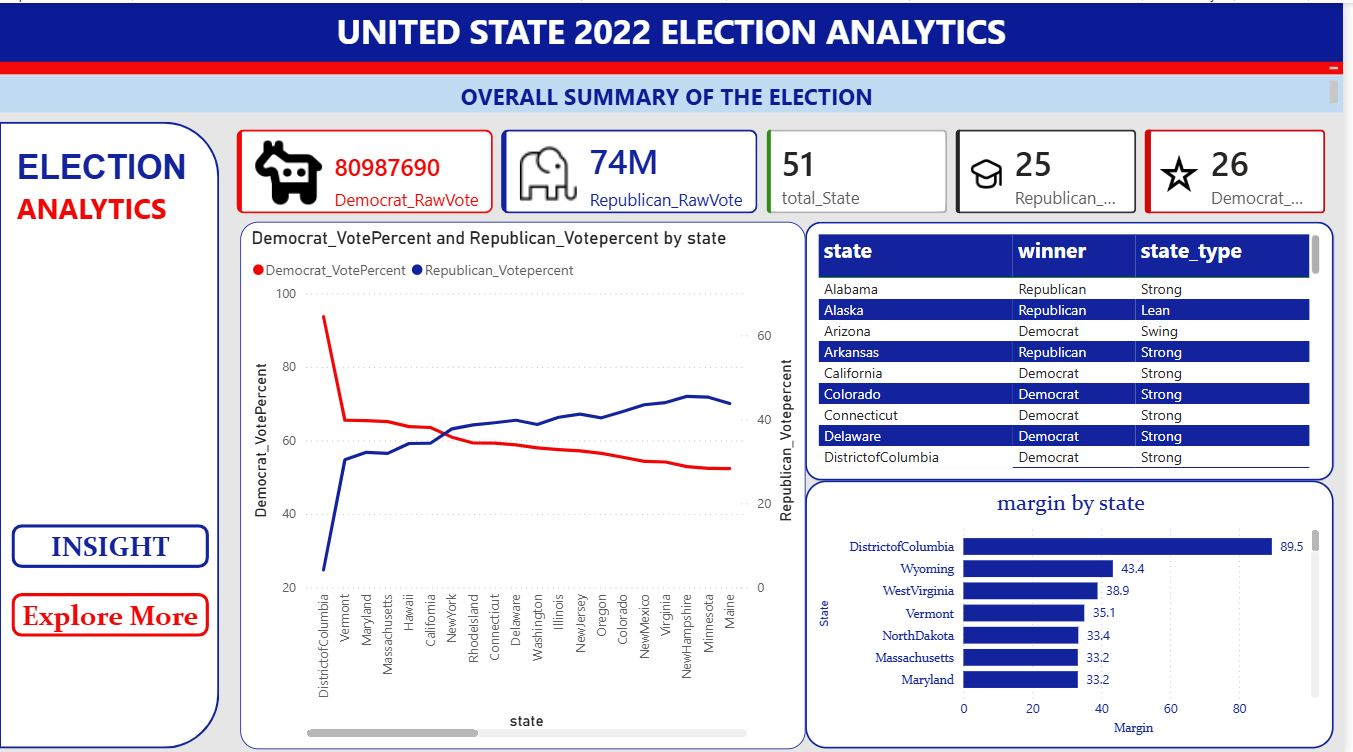

The dashboard page shown, as its layout file describes it:
{"tool":"powerbi","page":{"name":"Summery","canvas":[1280,720],"ordinal":0},"visuals":[{"type":"shape","box":[0,113,209.8,597.1],"z":0},{"type":"textbox","box":[12.1,129.1,188.3,98.2],"z":1000},{"type":"clusteredBarChart","title":"margin by state","fields":{"Category":["Query1.state"],"Y":["Sum(Query1.margin)"]},"box":[767.9,454.6,503,255.5],"z":2000},{"type":"tableEx","fields":{"Values":["people.state","people.winner","people.state_type"]},"box":[767.9,208.4,503,246.1],"z":3000},{"type":"cardVisual","fields":{"Data":["Sum(Query2.Democrat_RawVote)","Sum(Query2.Republican_RawVote)"]},"box":[209.8,103.6,531.2,114.3],"z":4000},{"type":"cardVisual","fields":{"Data":["Sum(Query3.total_State)","Sum(Query3.Total_Republican_Wins)","Sum(Query3.Total_Democrat_Wins)"]},"box":[714.1,103.6,566.2,114.3],"z":5000},{"type":"shape","box":[11.9,496.4,188.1,41.7],"z":6000},{"type":"shape","box":[11.9,561.9,188.1,41.7],"z":7000},{"type":"textbox","box":[0,0,1280.3,56.5],"z":8000},{"type":"textbox","box":[0,56.5,1280.3,12.1],"z":9000},{"type":"textbox","box":[0,68.6,1280.3,35],"z":10000},{"type":"areaChart","fields":{"Category":["Query1.state"],"Y":["Sum(Query1.Democrat_VotePercent)"],"Y2":["Sum(Query1.Republican_Votepercent)"]},"box":[229.8,208.3,538.1,502.4],"z":11000}]}

Visuals, with their boxes in screenshot pixels (x1, y1, x2, y2), scaled from the page's 1280x720 canvas onto the 1353x752 screenshot:
shape: BBox(0, 118, 222, 742)
textbox: BBox(13, 135, 212, 237)
"margin by state" clusteredBarChart: BBox(812, 475, 1343, 742)
tableEx - people.state x people.winner: BBox(812, 218, 1343, 475)
cardVisual - Sum(Query2.Democrat_RawVote) x Sum(Query2.Republican_RawVote): BBox(222, 108, 783, 228)
cardVisual - Sum(Query3.total_State) x Sum(Query3.Total_Republican_Wins): BBox(755, 108, 1352, 228)
shape: BBox(13, 518, 211, 562)
shape: BBox(13, 587, 211, 630)
textbox: BBox(0, 0, 1352, 59)
textbox: BBox(0, 59, 1352, 72)
textbox: BBox(0, 72, 1352, 108)
areaChart - Query1.state x Sum(Query1.Democrat_VotePercent): BBox(243, 218, 812, 742)
